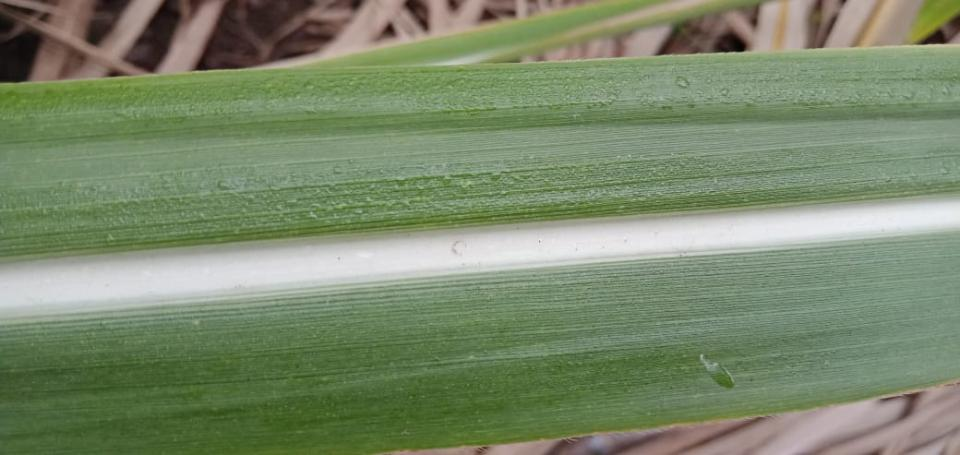Healthy: (0, 45, 959, 454)
